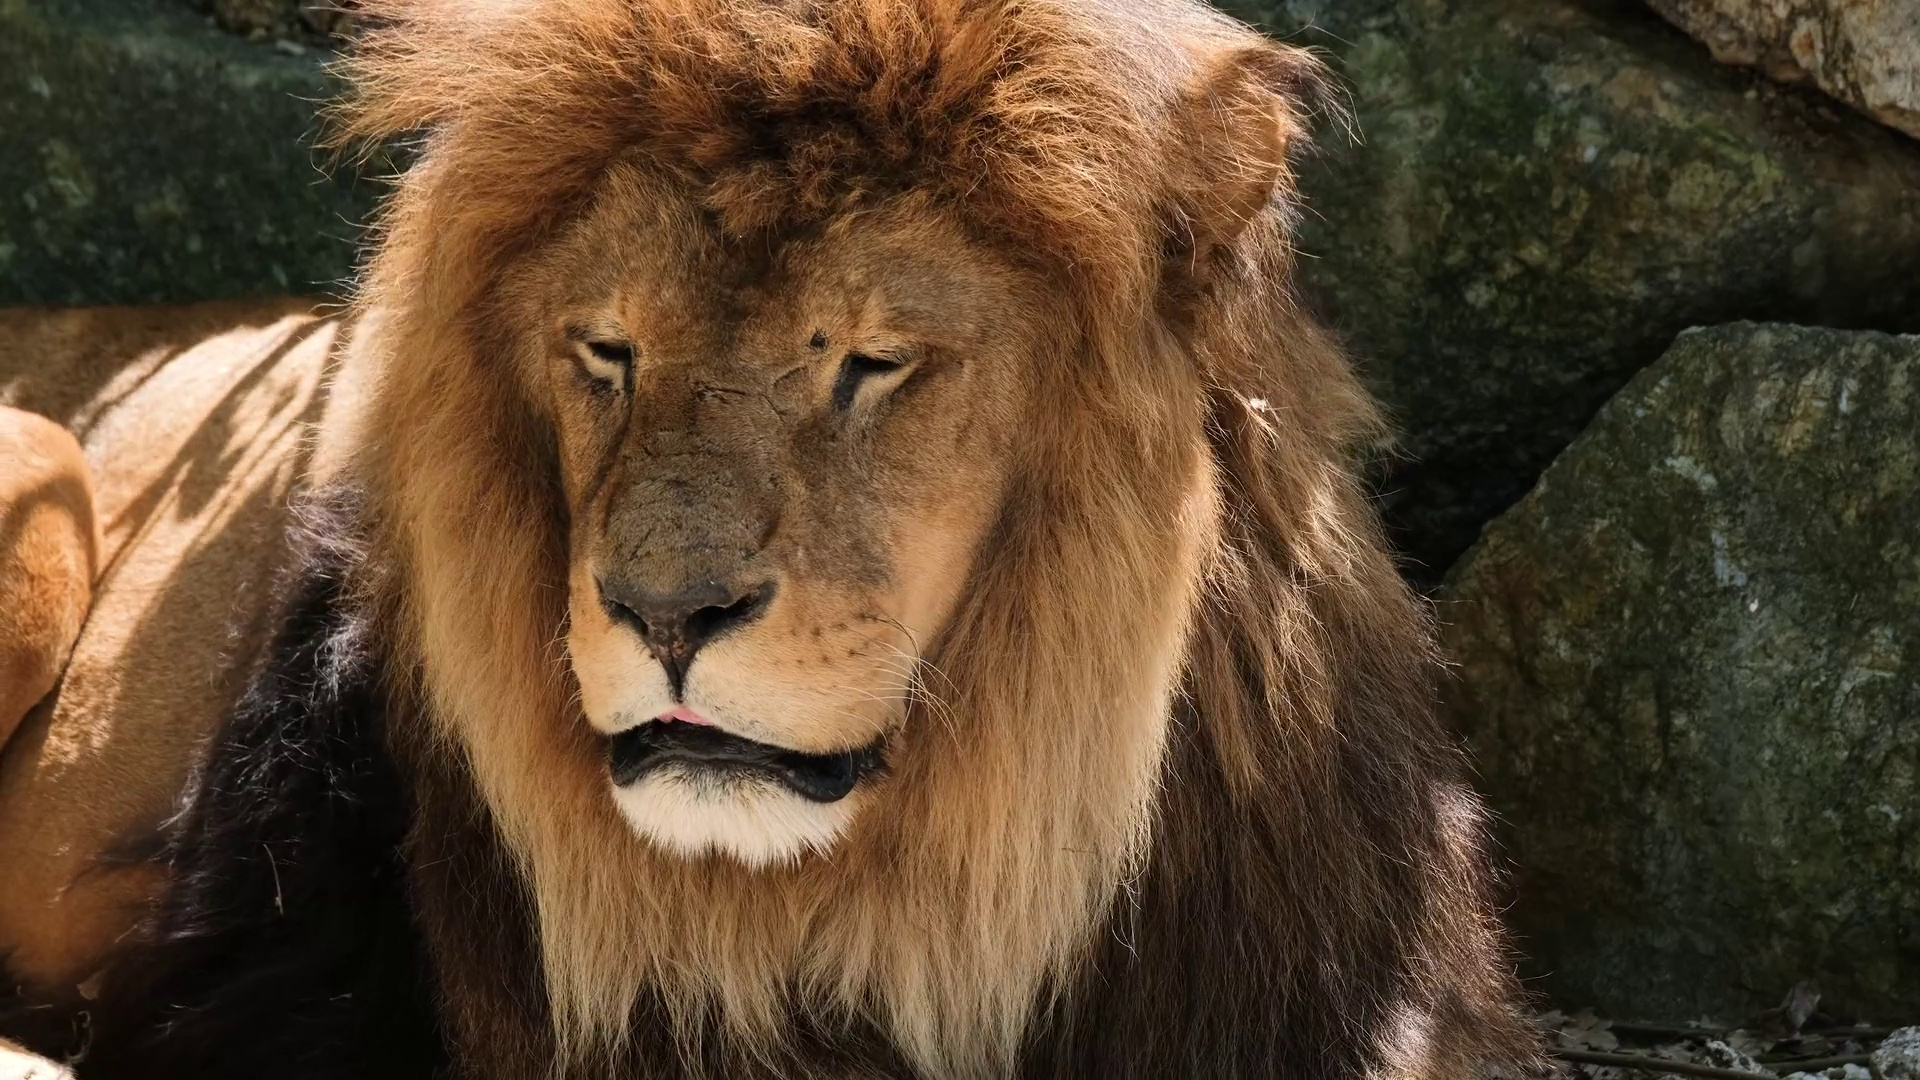Lion: (4, 1, 1551, 1080)
